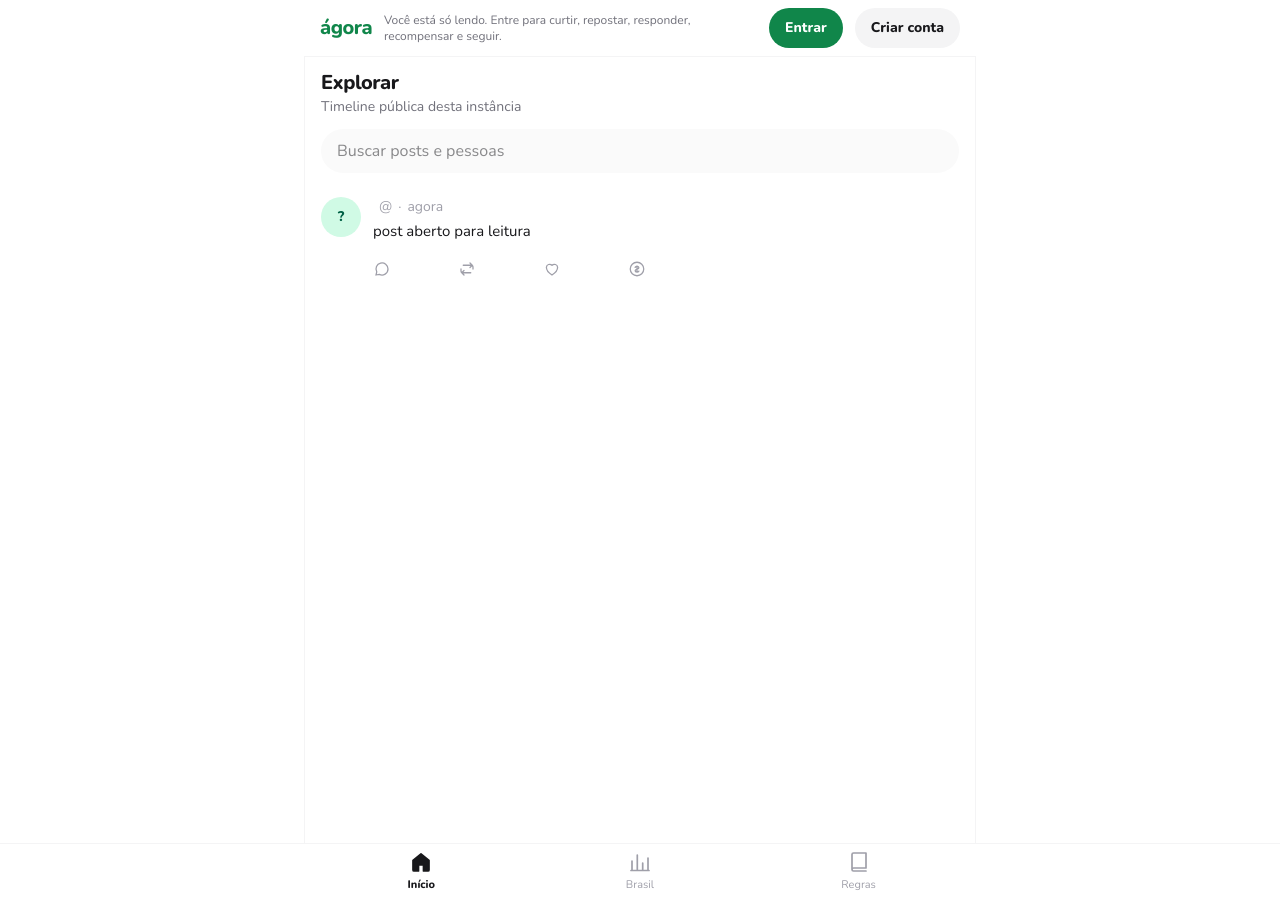
it: visitante (sem conta) › curtir pede login (não curte nada) e leva para entrar
Click the button named "Curtir". click: (557, 269)
box: [535, 247, 579, 291]
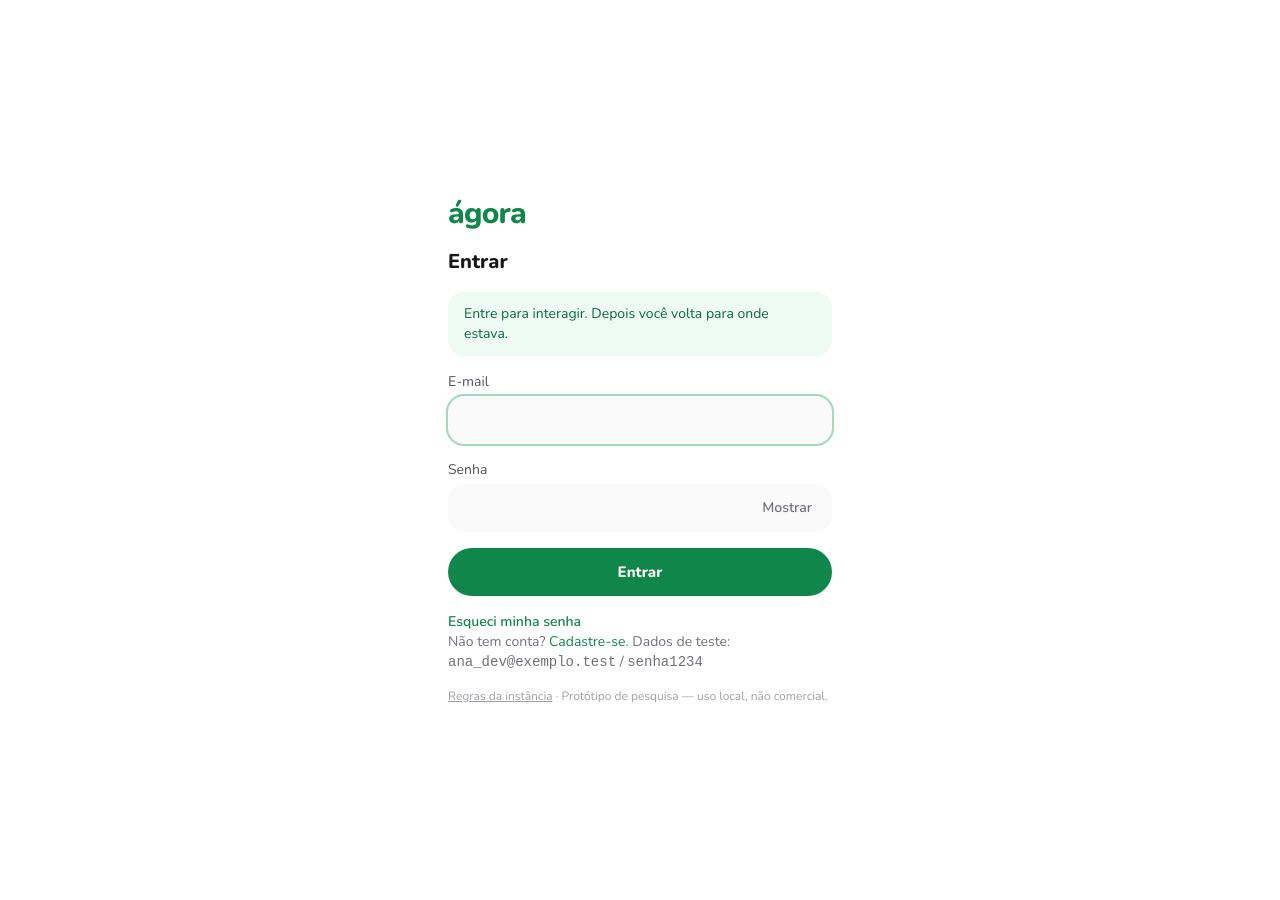
Expected: the heading "Entrar" is shown, [448, 248, 508, 275]
Expected: the message shows "Entre para interagir", [464, 304, 769, 343]
